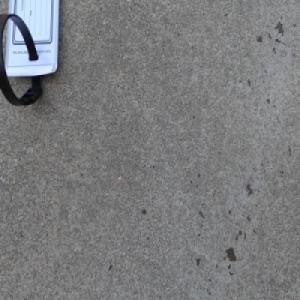LuggageTag: (0, 0, 62, 108)
